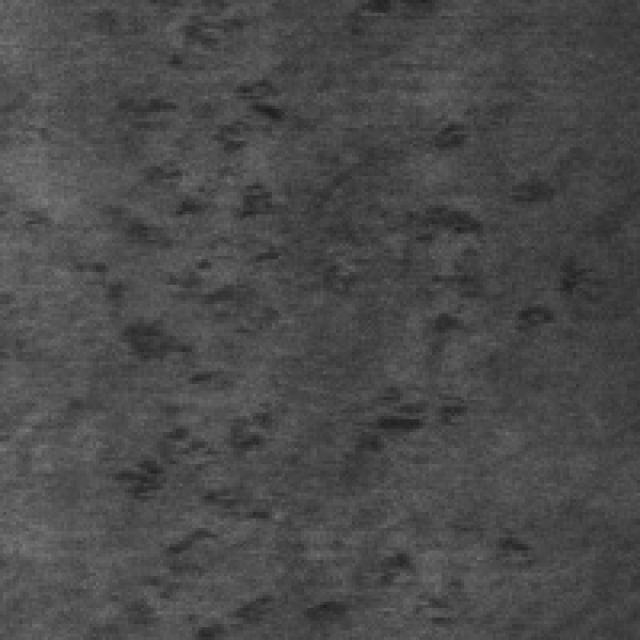rolled-in_scale: (74, 3, 326, 381), (80, 253, 314, 630), (378, 93, 563, 432)
